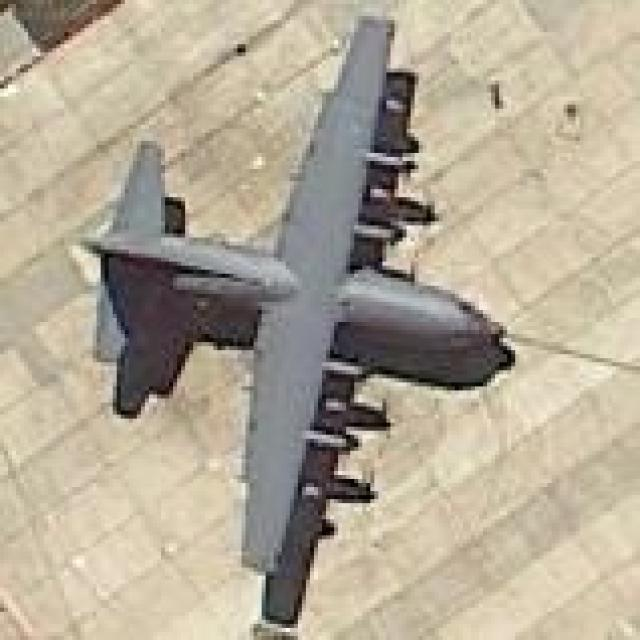C-130_TopDown: (82, 10, 514, 627)
